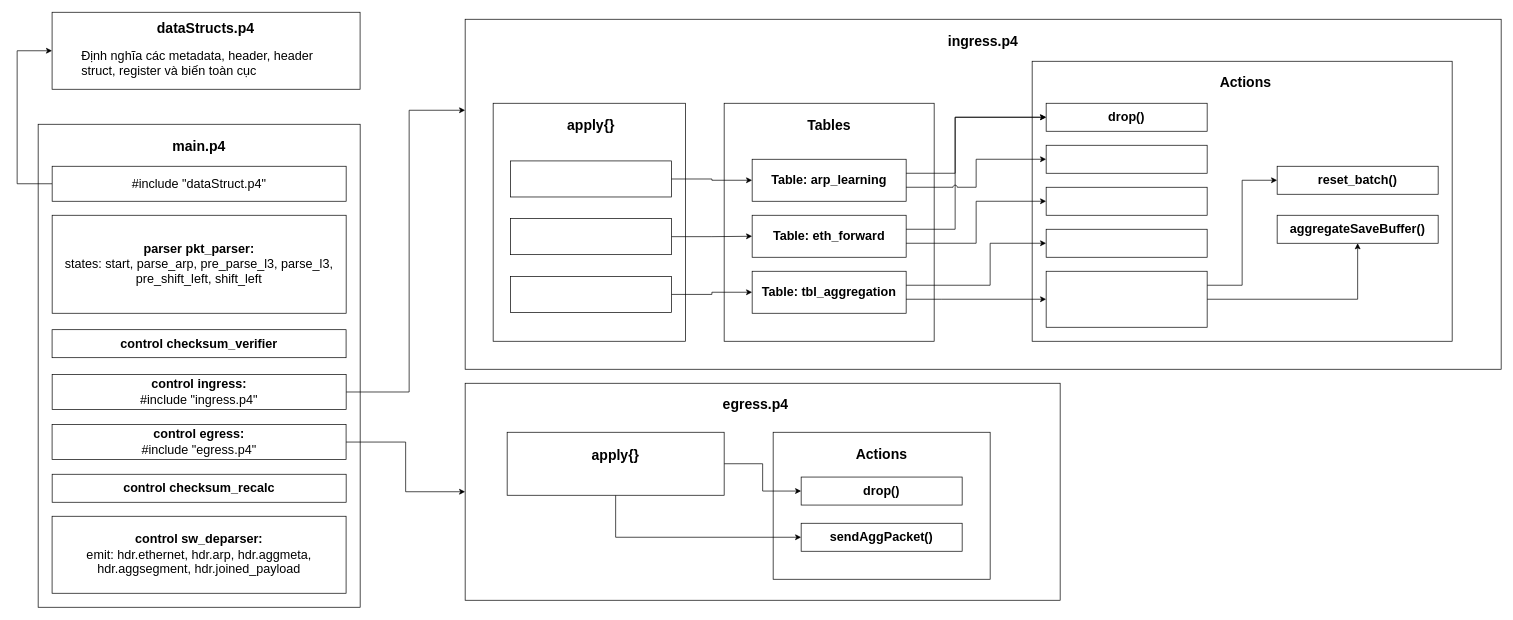
Some shapes in this 1513 by 620 pixel diagram are drawn without their labels. Each missing label, with the centre of its shape:
aggregating(): the point at 1126,299
arp_learning.apply();: the point at 591,178
eth_forward .apply();: the point at 591,236
forward(): the point at 1126,201
mac_resolve(): the point at 1126,159
NoAction(): the point at 1126,243
tbl_aggregation .apply();: the point at 591,294
